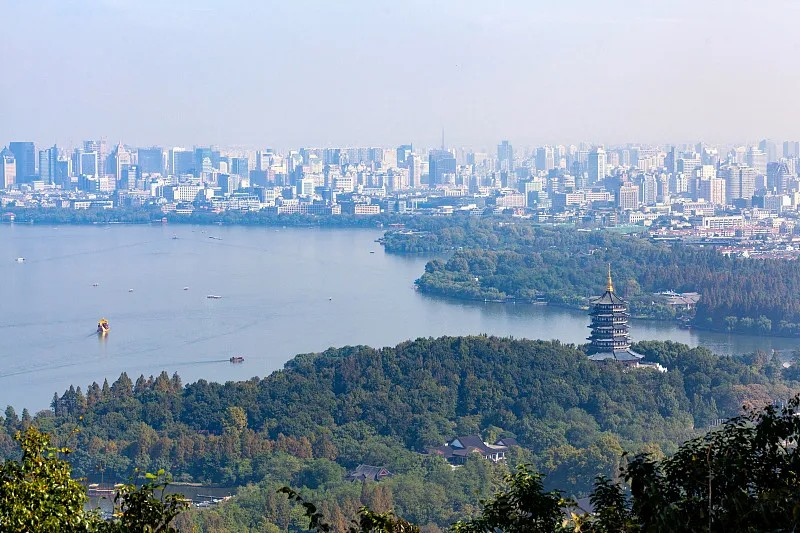Leifeng: (586, 262, 644, 368)
